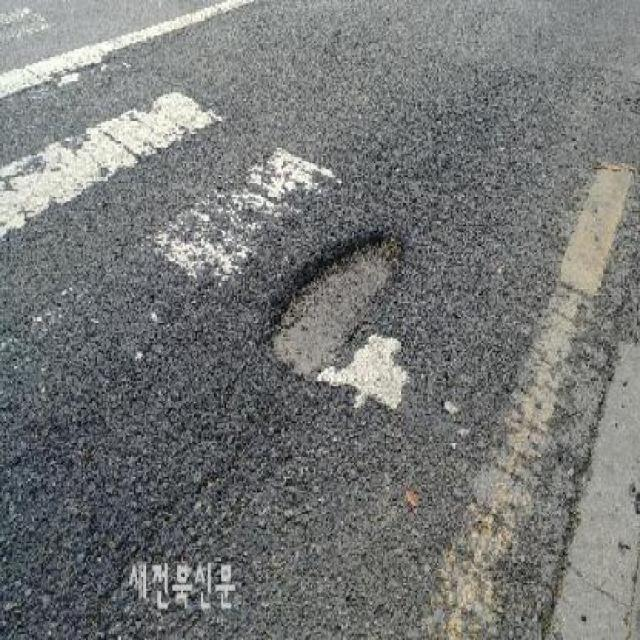Buraco: (253, 221, 416, 391)
